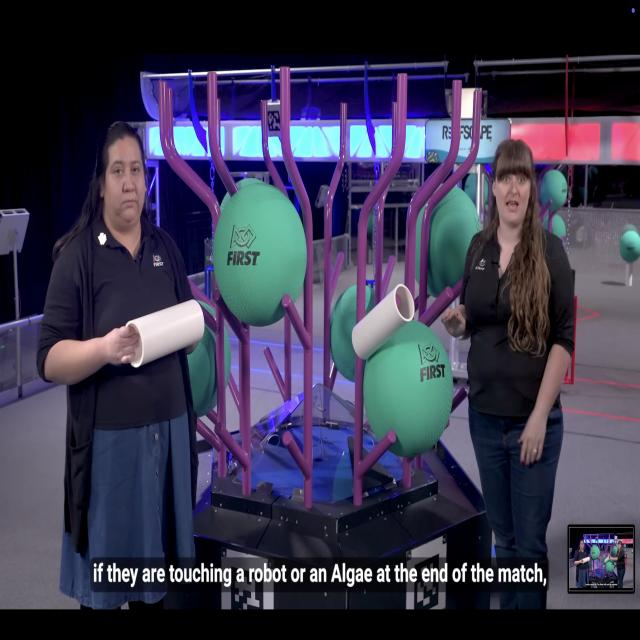algae: (209, 181, 312, 331), (364, 320, 451, 455), (404, 181, 485, 297), (331, 280, 386, 380), (190, 302, 231, 423), (534, 168, 573, 215), (542, 206, 569, 247), (618, 224, 640, 264)
coral: (120, 298, 207, 367), (351, 287, 421, 358), (622, 258, 638, 290)
